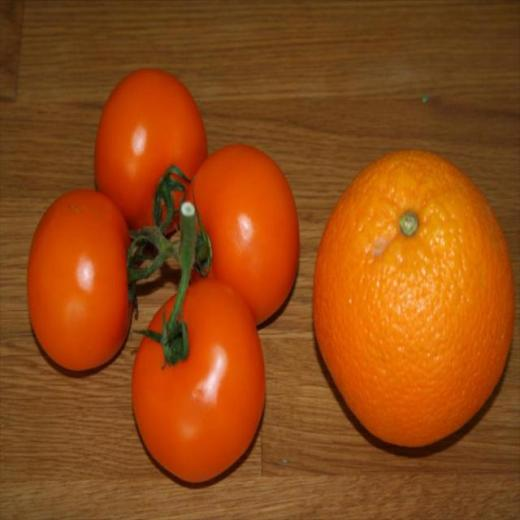Grape: (313, 150, 514, 446)
